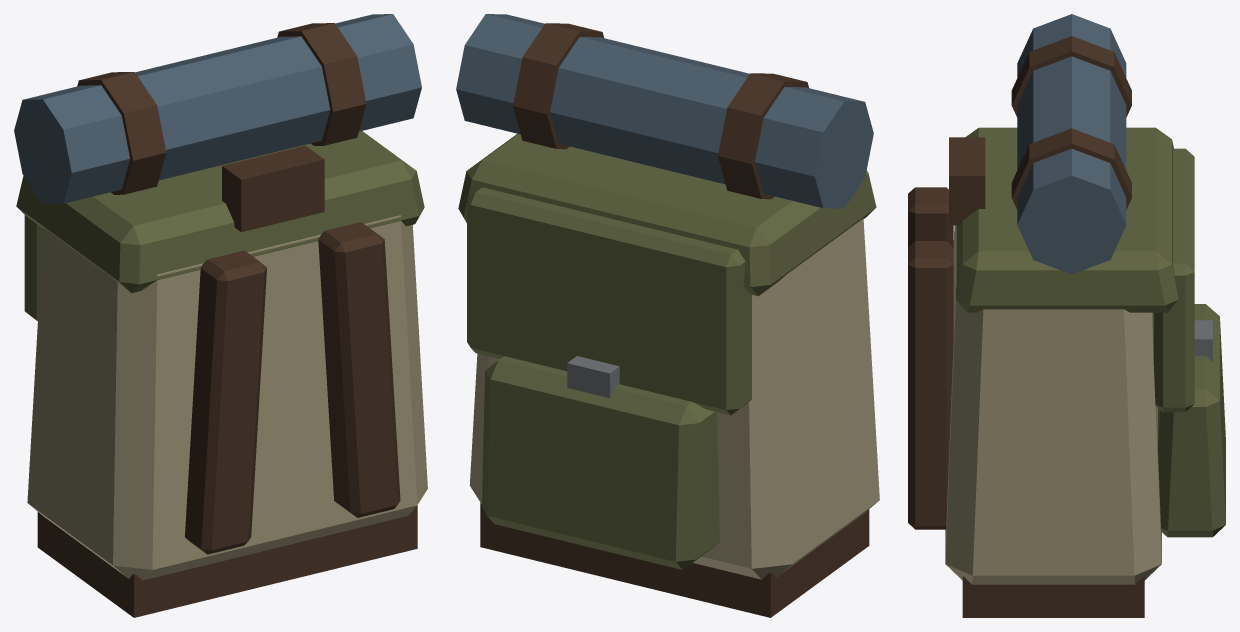
Rendered from item_backpack.glb.
The picture shows the model from 3 angles, left to right: view 1: azimuth 30°, elevation 25°; view 2: azimuth 150°, elevation 25°; view 3: azimuth 270°, elevation 25°; orthographic projection. The views are drawn at different scales.
Parts seen in each view (by area): view 1: backpack; view 2: backpack; view 3: backpack.
Boxes of the visible parts, box(x1,y1,x2,y2) form: backpack: box(14, 14, 427, 617); backpack: box(456, 14, 879, 617); backpack: box(908, 14, 1225, 617).
Bounding box in the file's own units: 0.42 × 0.561 × 0.3493.
